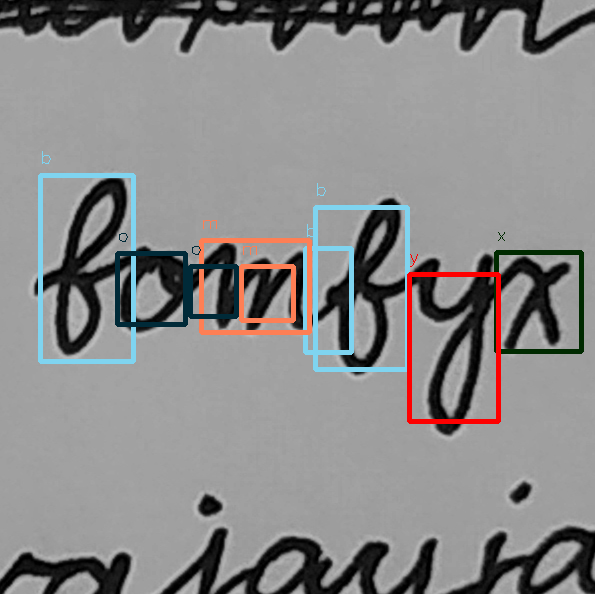b: (323, 194, 406, 379), (49, 173, 131, 359)
m: (207, 236, 315, 338)
o: (114, 241, 198, 336)
x: (500, 252, 573, 358)
y: (410, 248, 499, 439)
